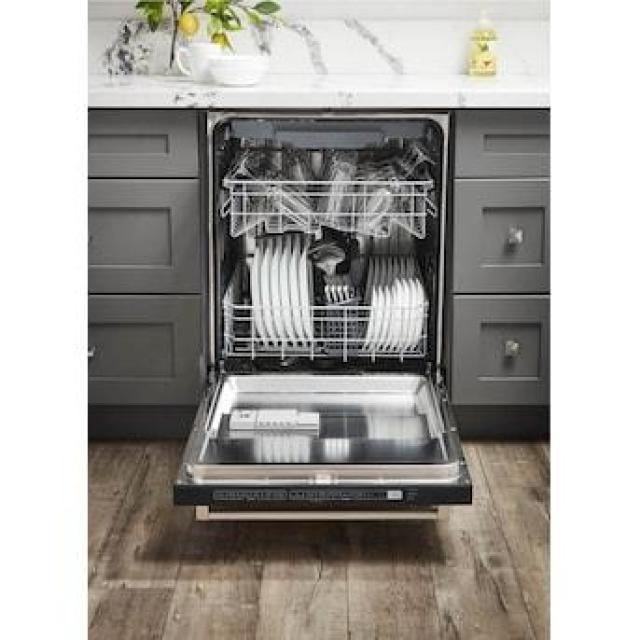dishwasher: (181, 64, 468, 578)
